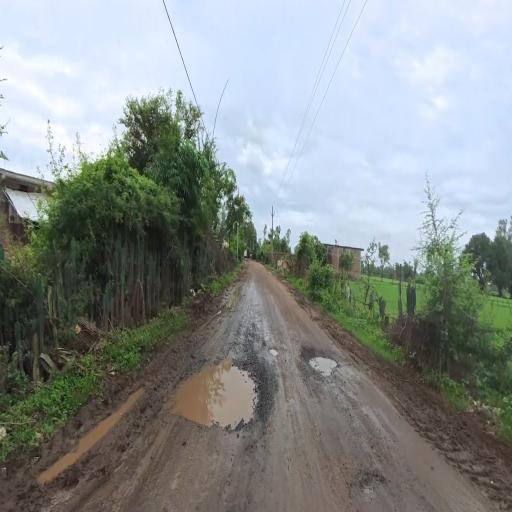pothole: (158, 300, 273, 463), (297, 290, 364, 435)
